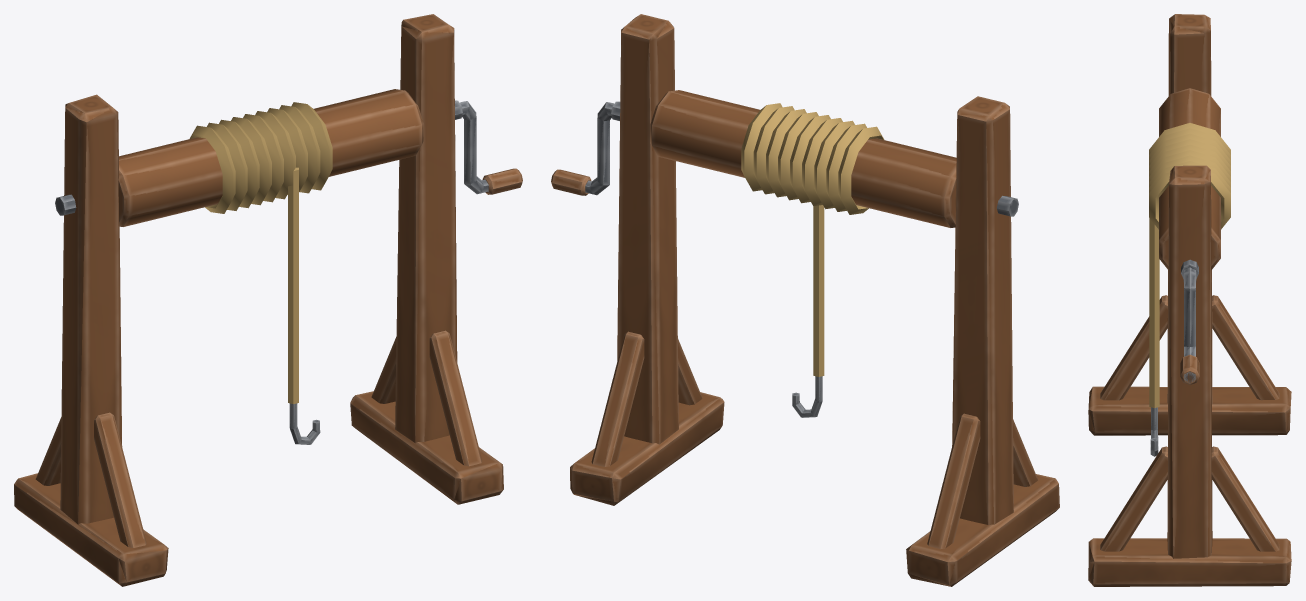
File: well_winch.glb
The picture shows the model from 3 angles, left to right: view 1: azimuth 30°, elevation 25°; view 2: azimuth 150°, elevation 25°; view 3: azimuth 270°, elevation 25°; orthographic projection. The views are drawn at different scales.
Visible parts, largest first — view 1: post_left, post_right, drum, sill_left, sill_right, brace_front_right, brace_front_left, rope, coil_0, crank, coil_8, coil_2 (+9 smaller); view 2: post_left, post_right, drum, sill_left, sill_right, brace_back_left, brace_back_right, rope, coil_0, crank, coil_8, coil_2 (+9 smaller); view 3: post_right, sill_right, sill_left, post_left, drum, brace_back_right, brace_front_right, brace_back_left, brace_front_left, rope, crank, coil_8 (+10 smaller).
Boxes of the visible parts, left/top/right/bottom form: post_left: left=60, top=94, right=122, bottom=524; post_right: left=395, top=14, right=457, bottom=443; drum: left=118, top=89, right=423, bottom=226; sill_left: left=14, top=473, right=168, bottom=586; sill_right: left=350, top=391, right=503, bottom=504; brace_front_right: left=429, top=330, right=482, bottom=466; brace_front_left: left=94, top=412, right=146, bottom=547; rope: left=288, top=167, right=298, bottom=403; coil_0: left=189, top=125, right=235, bottom=213; crank: left=460, top=101, right=488, bottom=194; coil_8: left=291, top=102, right=332, bottom=190; coil_2: left=219, top=119, right=259, bottom=208; post_left: left=952, top=96, right=1013, bottom=524; post_right: left=617, top=14, right=678, bottom=444; drum: left=650, top=90, right=956, bottom=227; sill_left: left=906, top=474, right=1059, bottom=586; sill_right: left=570, top=392, right=724, bottom=505; brace_back_left: left=927, top=413, right=980, bottom=548; brace_back_right: left=591, top=331, right=644, bottom=466; rope: left=813, top=205, right=824, bottom=376; coil_0: left=838, top=126, right=884, bottom=214; crank: left=585, top=102, right=613, bottom=195; coil_8: left=741, top=103, right=782, bottom=191; coil_2: left=814, top=120, right=854, bottom=209; post_right: left=1167, top=165, right=1212, bottom=558; sill_right: left=1088, top=538, right=1291, bottom=586; sill_left: left=1088, top=386, right=1291, bottom=435; post_left: left=1167, top=14, right=1212, bottom=403; drum: left=1159, top=88, right=1220, bottom=269; brace_back_right: left=1211, top=446, right=1279, bottom=551; brace_front_right: left=1100, top=446, right=1167, bottom=551; brace_back_left: left=1212, top=295, right=1279, bottom=400; brace_front_left: left=1100, top=295, right=1167, bottom=400; rope: left=1149, top=218, right=1159, bottom=407; crank: left=1183, top=267, right=1196, bottom=382; coil_8: left=1149, top=172, right=1230, bottom=229.
Bounding box in the file's own units: 1.5 × 1.38 × 0.6244.
Materials: 3 (3 with a texture image).
